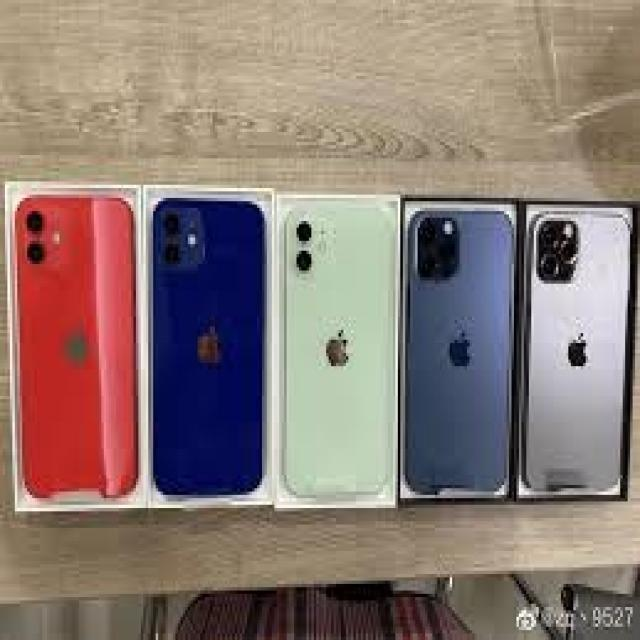Phone: (14, 191, 136, 499), (148, 194, 270, 502), (281, 198, 395, 510), (404, 209, 516, 497), (522, 207, 632, 493)
